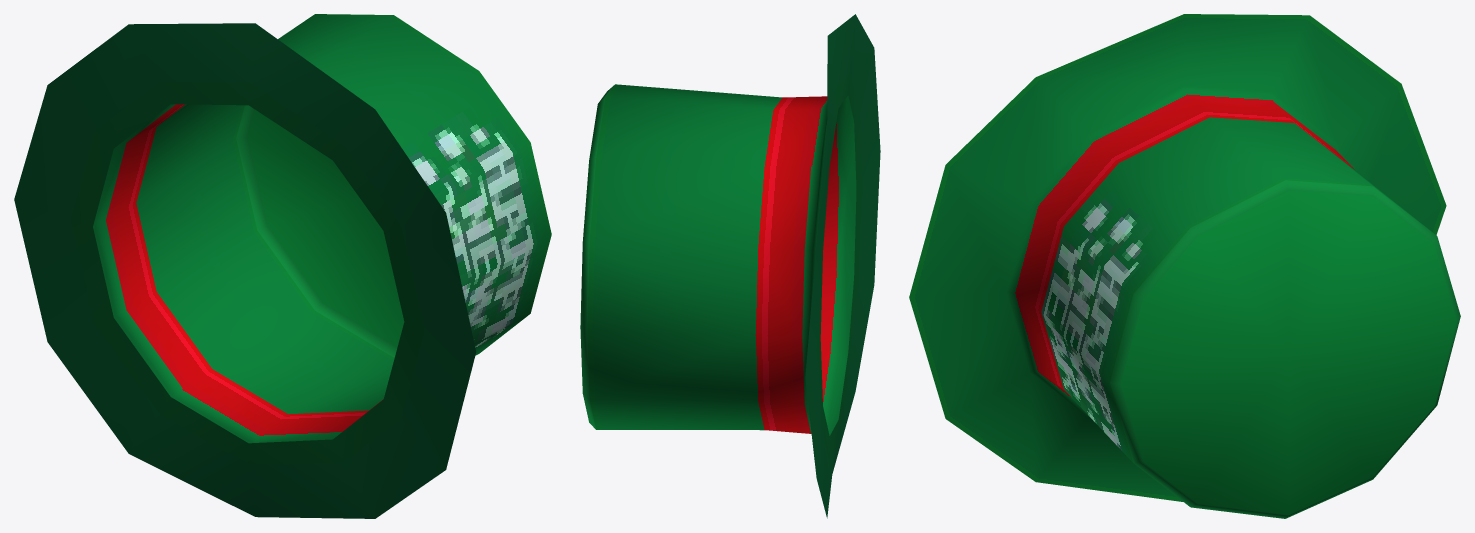
File: cap_newyear_grn.dae
3 renders of one model, left to right at view 1: azimuth 30°, elevation 25°; view 2: azimuth 150°, elevation 25°; view 3: azimuth 270°, elevation 25°, orthographic. The views are drawn at different scales.
Parts seen in each view (by area): view 1: cap_newyear_grn; view 2: cap_newyear_grn; view 3: cap_newyear_grn.
Part boxes in pixels (left/top/right/bottom): cap_newyear_grn: left=14, top=14, right=551, bottom=518; cap_newyear_grn: left=580, top=14, right=880, bottom=518; cap_newyear_grn: left=909, top=14, right=1460, bottom=518.
Size of the model in its own units: 24.28 by 30.89 by 31.64.
1 material, 1 textured.
